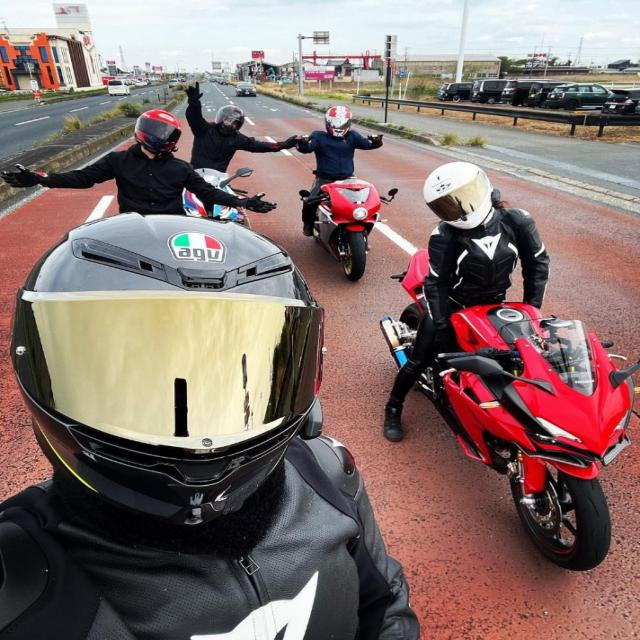helmet: (3, 209, 331, 539), (420, 157, 497, 233), (130, 106, 184, 158), (322, 105, 354, 140)
